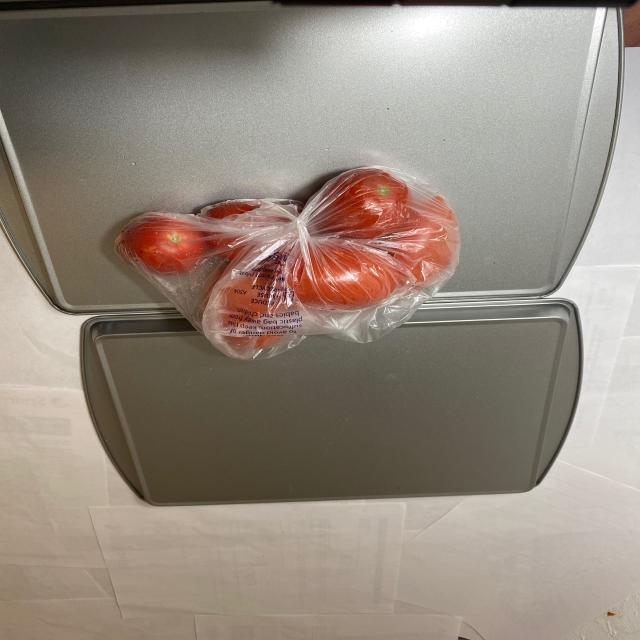tomato: (115, 169, 463, 356)
